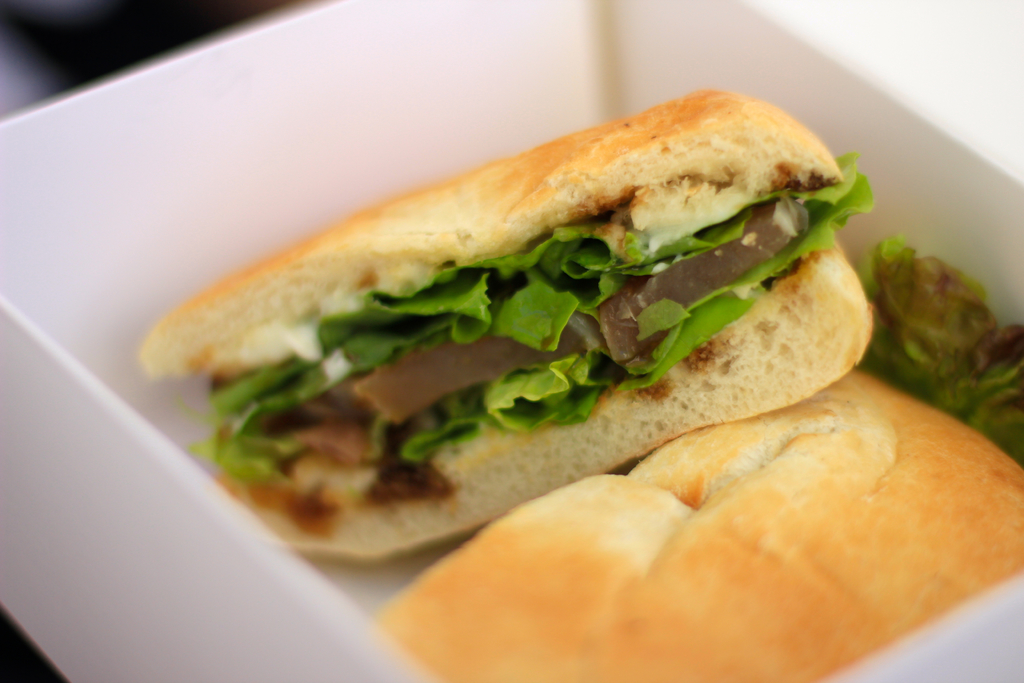Hamburger: (136, 89, 865, 564), (368, 374, 1023, 682)
